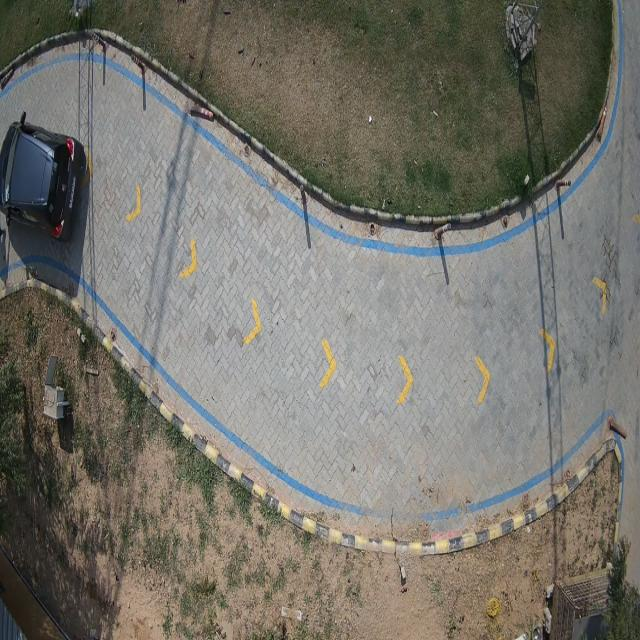car: (0, 116, 84, 240)
